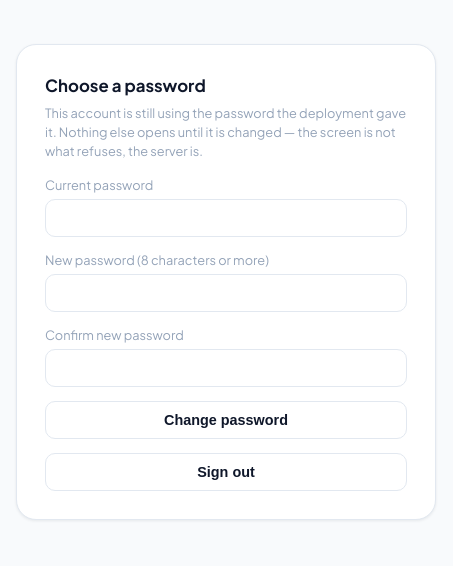
Test case: a refused change and an unreachable backend are different sentences › repeats what the server said when the server refused the change
The width and height of the screenshot is (453, 566).
Type "wrong-old-one" into the password field below "Current password" at x=226, y=218, box [45, 199, 407, 237]
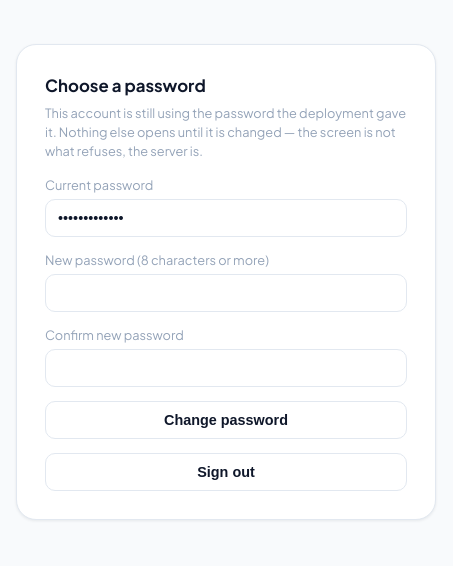
Type "chosen-by-the-operator" into the password field below "New password (8 characters or more)" at x=226, y=293, box [45, 274, 407, 312]
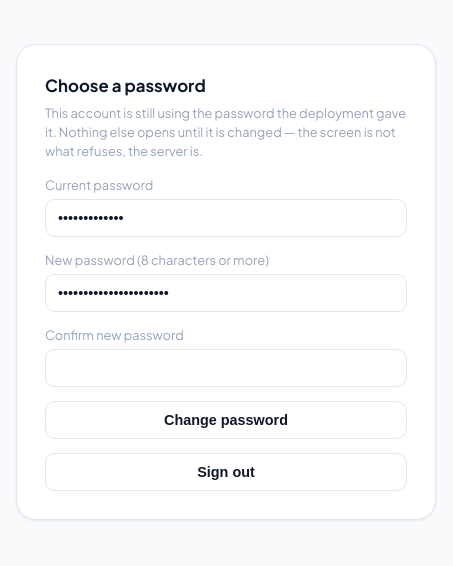
Type "chosen-by-the-operator" into the password field below "Confirm new password" at x=226, y=368, box [45, 349, 407, 387]
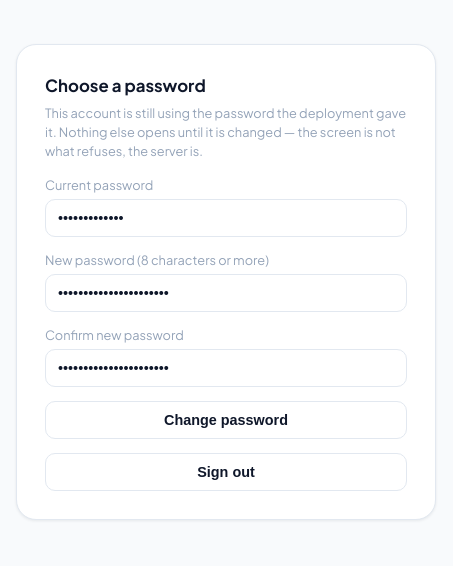
Click the submit button at x=226, y=420, box [45, 401, 407, 439]
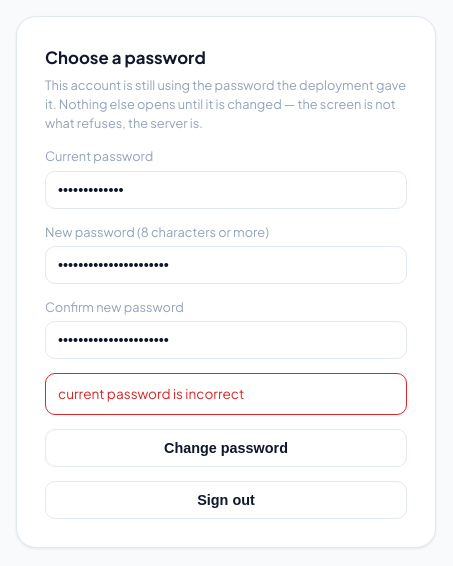
Expected: the submit button is enabled, [45, 429, 407, 467]
Now the text with test id "change-password-error" reads "current password is incorrect", box [58, 385, 244, 402]
